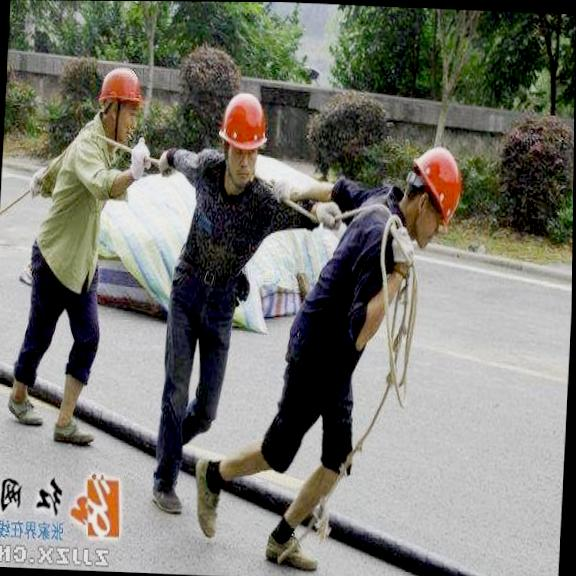no_safety_vest: (314, 173, 408, 372), (176, 162, 286, 295), (42, 112, 121, 277)
